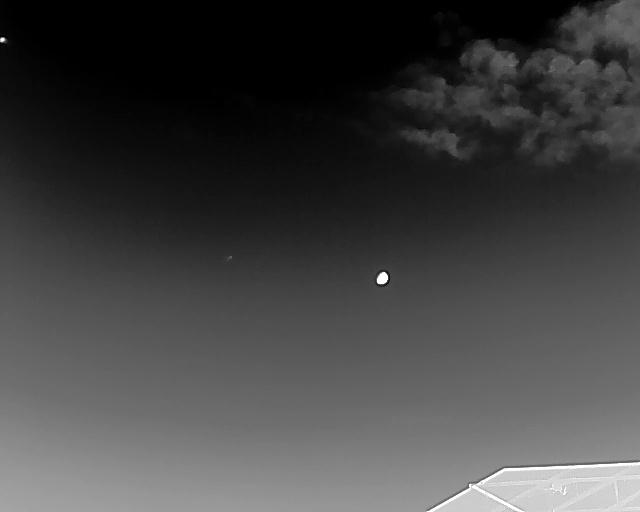fpv-drone: (0, 35, 9, 44)
